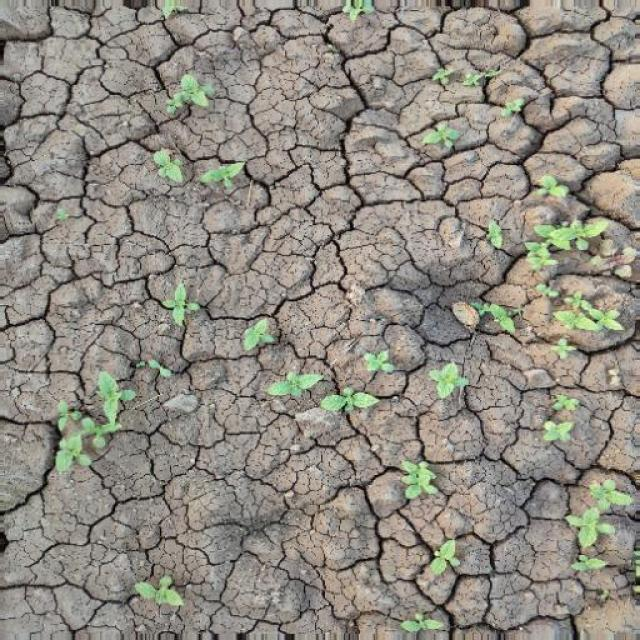crop: (475, 186, 623, 272), (39, 381, 160, 474), (260, 373, 376, 428), (156, 67, 220, 121), (394, 450, 451, 504), (129, 576, 196, 616), (200, 154, 254, 202), (426, 534, 474, 586), (429, 354, 469, 415), (418, 112, 468, 160), (432, 58, 492, 92), (160, 280, 205, 324), (234, 315, 278, 359), (149, 145, 190, 186), (359, 346, 399, 382), (499, 94, 525, 126)
